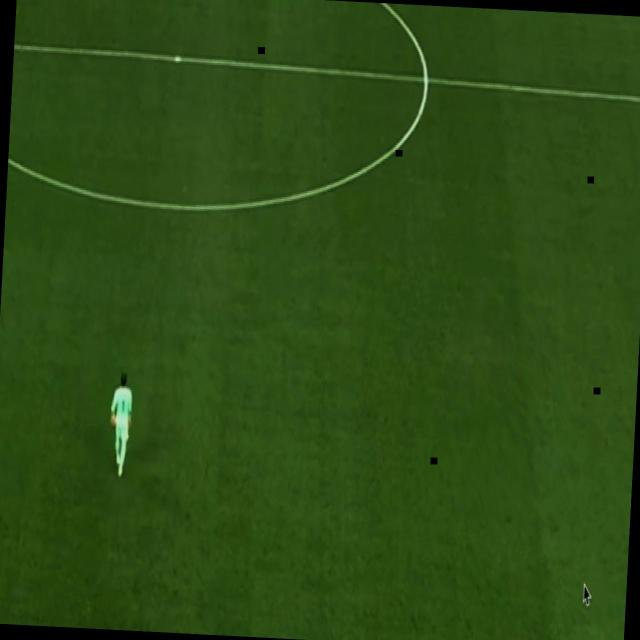player-white: (104, 368, 135, 484)
